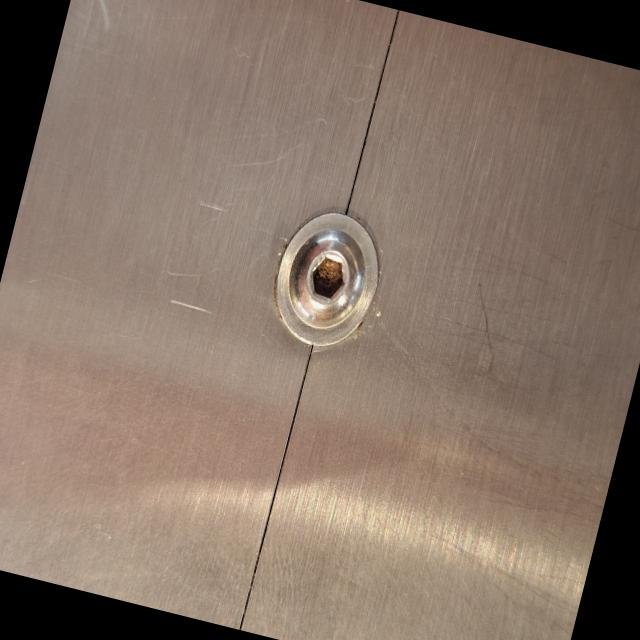Hex Socket Allen: (242, 188, 404, 369)
